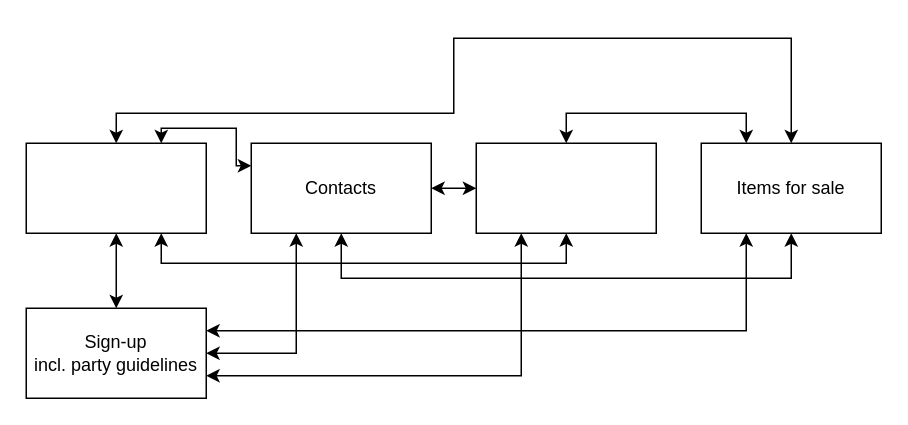
This 908x425 diagram has some shape labels left out. The centre of each missing label's shape, as x and y in pixels:
"About" belongs at (565,187).
"Home" belongs at (115,187).
